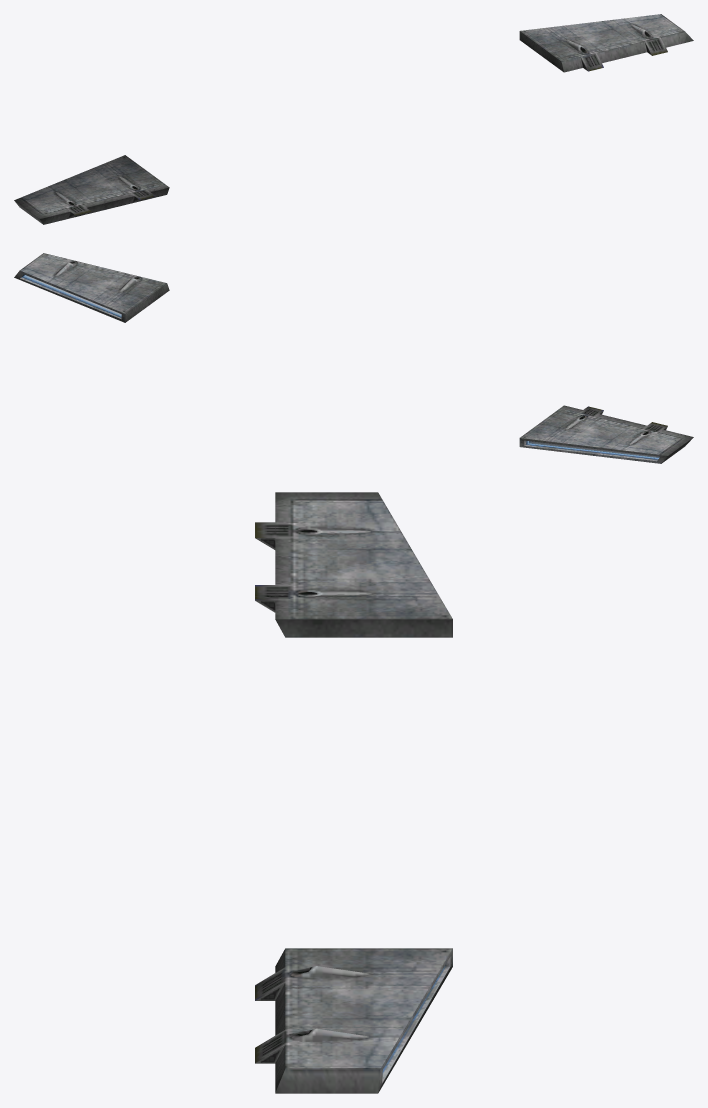
File: xwing_booster_neg_s02_l0.fbx
3 renders of one model, top to bottom at view 1: azimuth 30°, elevation 25°; view 2: azimuth 150°, elevation 25°; view 3: azimuth 270°, elevation 25°, orthographic. The views are drawn at different scales.
Parts seen in each view (by area): view 1: mesh_node; view 2: mesh_node; view 3: mesh_node.
Boxes of the visible parts, bbox=[...] form: mesh_node: bbox=[14, 14, 693, 224]; mesh_node: bbox=[14, 253, 693, 463]; mesh_node: bbox=[255, 492, 452, 1093].
Size of the model in its own units: 10.21 by 0.6745 by 1.34.
Materials: 1 (1 with a texture image).
